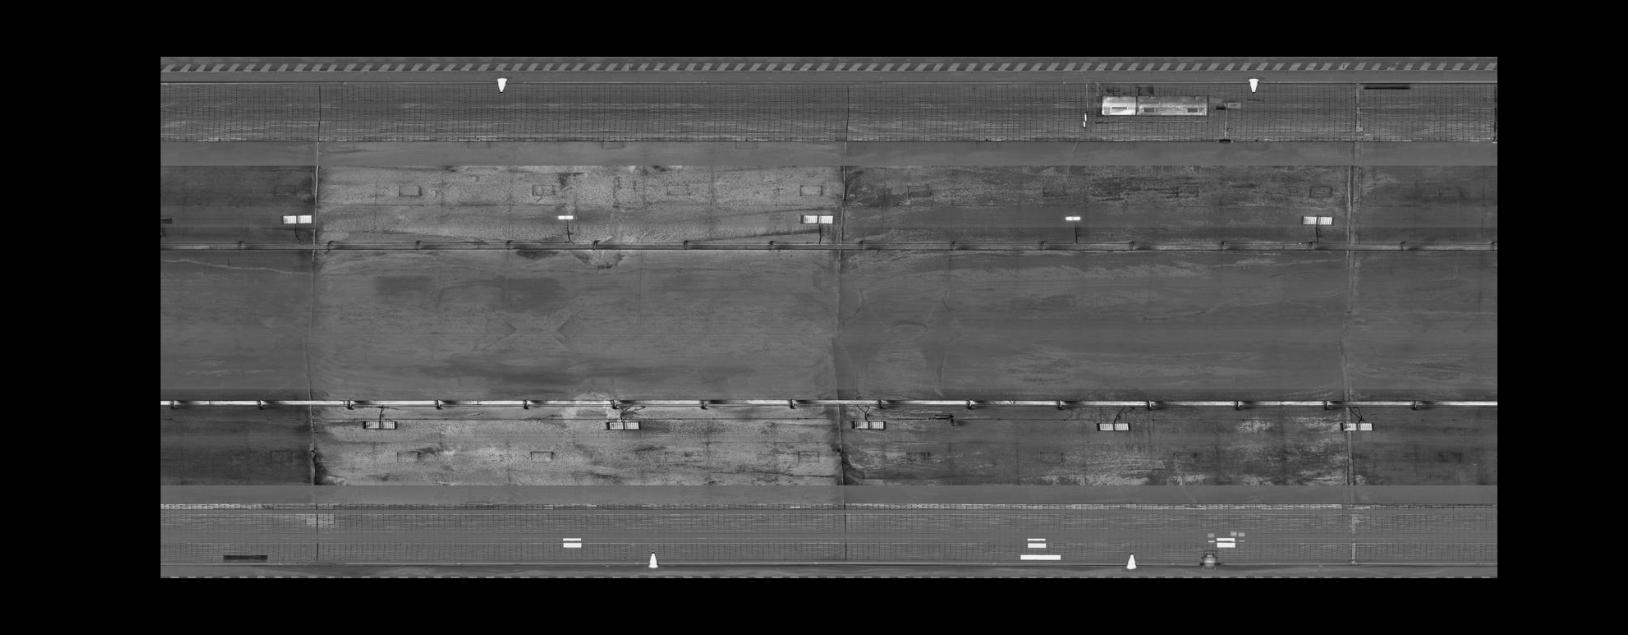light: (600, 418, 642, 434), (1092, 419, 1134, 435), (358, 417, 400, 432), (847, 417, 888, 432), (1297, 213, 1336, 227), (277, 211, 314, 225), (799, 211, 836, 225), (1337, 419, 1376, 433), (553, 213, 579, 221), (1060, 214, 1086, 222)
